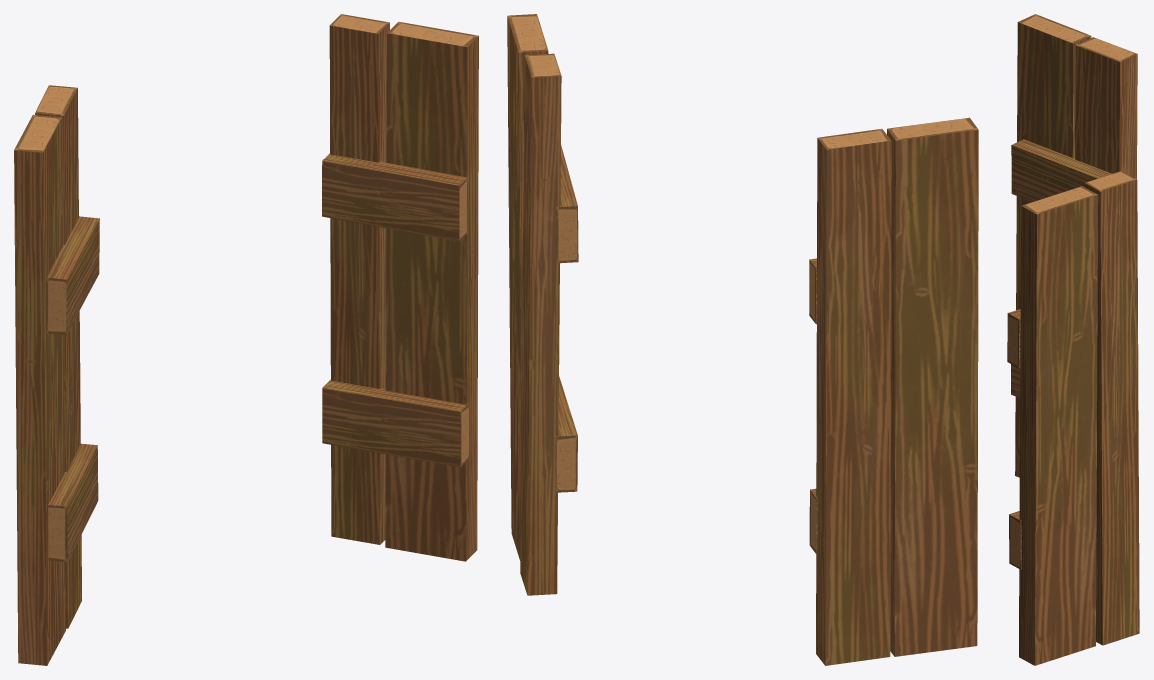
The model's file is WindowShutters_Thin_Flat_Open.gltf.
The picture shows the model from 3 angles, left to right: view 1: azimuth 30°, elevation 25°; view 2: azimuth 150°, elevation 25°; view 3: azimuth 270°, elevation 25°; orthographic projection. The views are drawn at different scales.
Visible parts, largest first — view 1: WindowShutters_Thin_Flat_Open; view 2: WindowShutters_Thin_Flat_Open; view 3: WindowShutters_Thin_Flat_Open.
Part boxes in pixels (x1,y1,x2,y2): WindowShutters_Thin_Flat_Open: (14,14,478,665); WindowShutters_Thin_Flat_Open: (507,14,978,665); WindowShutters_Thin_Flat_Open: (1007,14,1139,665).
Size of the model in its own units: 1.35 by 1.42 by 0.3771.
Materials: 1 (1 with a texture image).
